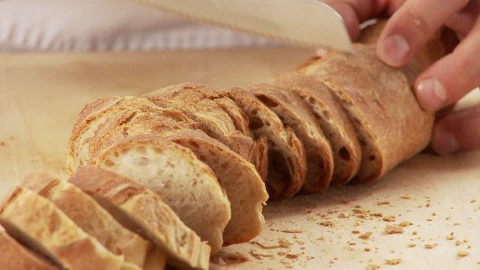slice of bread: (38, 83, 430, 213), (77, 135, 272, 249)
